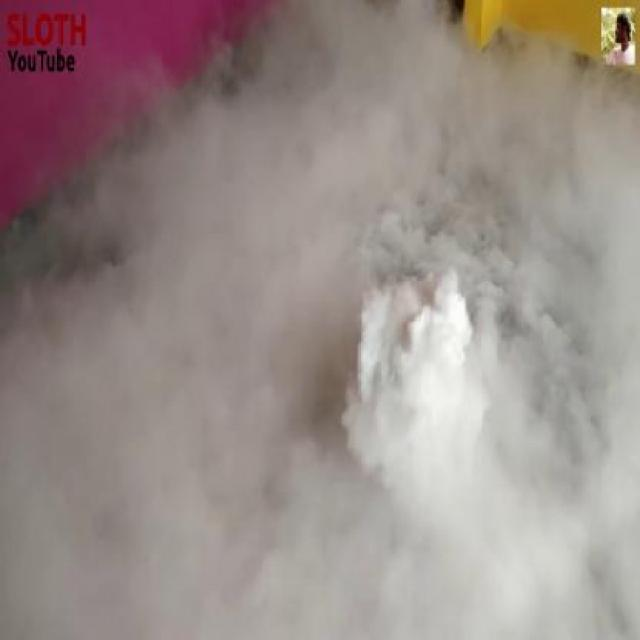smoke: (203, 167, 552, 602)
